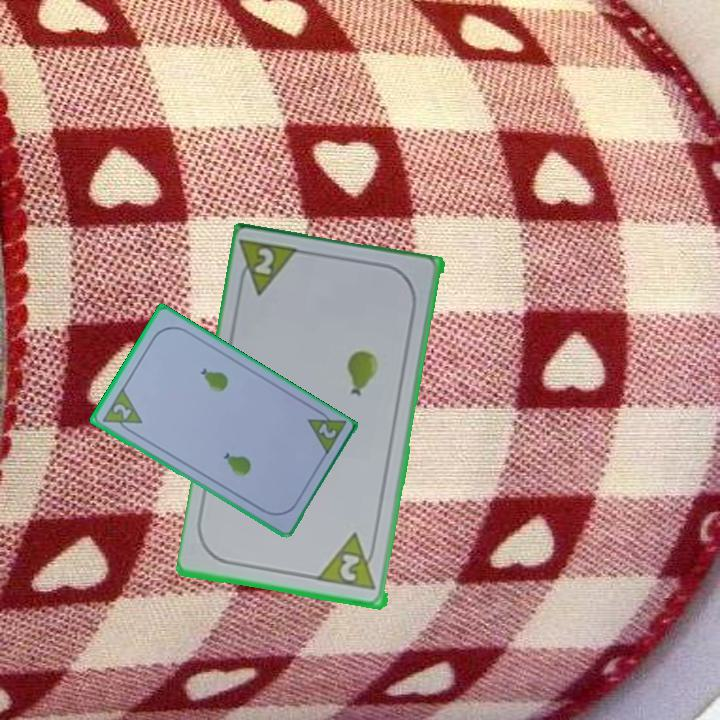2p: (235, 236, 305, 300), (98, 385, 145, 438), (336, 550, 363, 585), (314, 419, 339, 442)
